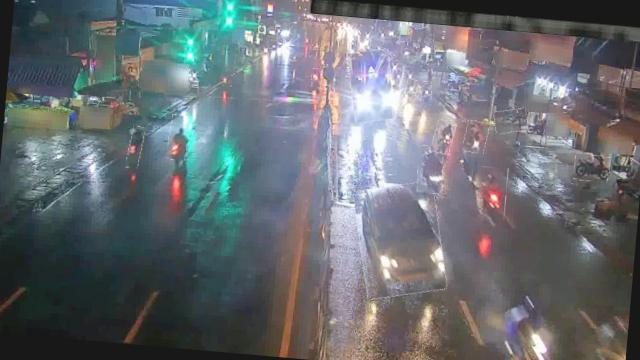Bike: (477, 166, 508, 222), (416, 144, 445, 194), (166, 114, 192, 161), (573, 152, 611, 182), (493, 108, 529, 136), (464, 120, 489, 154), (431, 120, 455, 155), (126, 126, 144, 170), (403, 79, 417, 102), (420, 81, 432, 105), (310, 68, 322, 89)
Car: (350, 178, 450, 301)
Truck: (344, 48, 398, 124)
